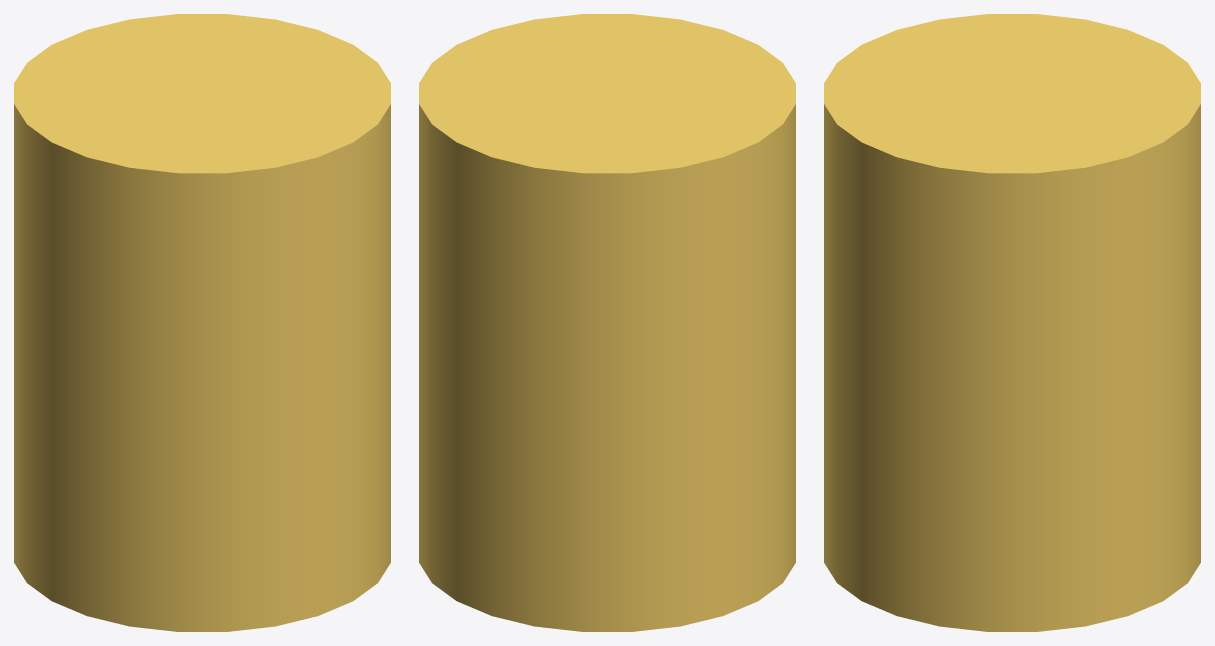
Rendered from SM_FW01_Coins_02.fbx.
The picture shows the model from 3 angles, left to right: view 1: azimuth 30°, elevation 25°; view 2: azimuth 150°, elevation 25°; view 3: azimuth 270°, elevation 25°; orthographic projection.
Parts seen in each view (by area): view 1: SM_FW01_Coins_02_LOD0; view 2: SM_FW01_Coins_02_LOD0; view 3: SM_FW01_Coins_02_LOD0.
Boxes of the visible parts, bbox=[...] form: SM_FW01_Coins_02_LOD0: bbox=[14, 14, 390, 631]; SM_FW01_Coins_02_LOD0: bbox=[419, 14, 795, 631]; SM_FW01_Coins_02_LOD0: bbox=[824, 14, 1200, 631].
Size of what is drawn, in the model's own units: 0.1091 by 0.1466 by 0.1091.
